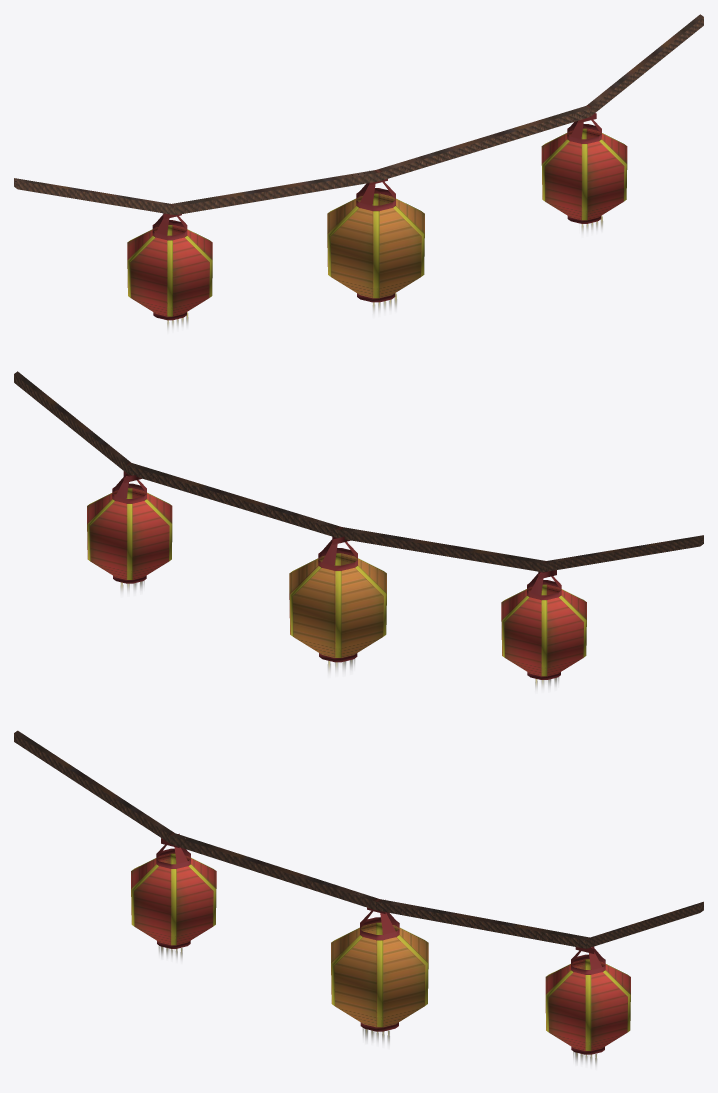
Rendered from pm-lamp-wreath.glb.
3 renders of one model, top to bottom at view 1: azimuth 30°, elevation 25°; view 2: azimuth 150°, elevation 25°; view 3: azimuth 330°, elevation 25°, orthographic.
Visible parts, largest first — view 1: LampWreath; view 2: LampWreath; view 3: LampWreath.
Part boxes in pixels (bbox=[...]): LampWreath: bbox=[14, 14, 703, 329]; LampWreath: bbox=[14, 371, 703, 688]; LampWreath: bbox=[14, 730, 703, 1065].
Bounding box in the file's own units: 6.66 × 2.15 × 0.8202.
3 materials, 3 textured.
